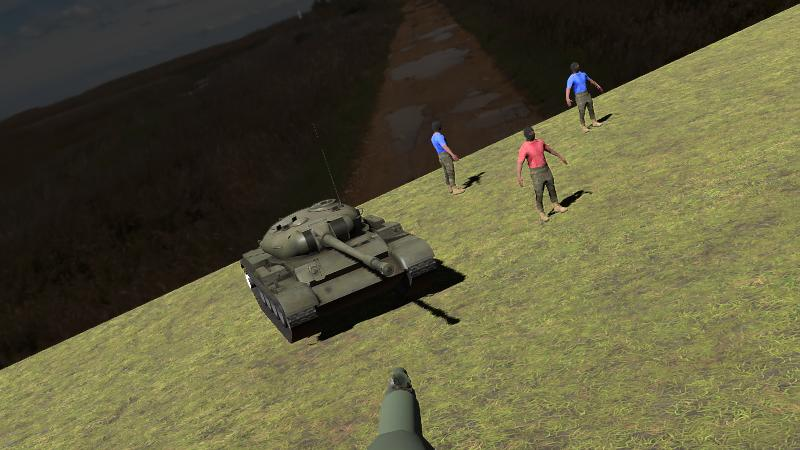Human: (518, 126, 568, 223), (567, 61, 603, 131), (431, 121, 465, 194)
Tank: (241, 198, 439, 344)
